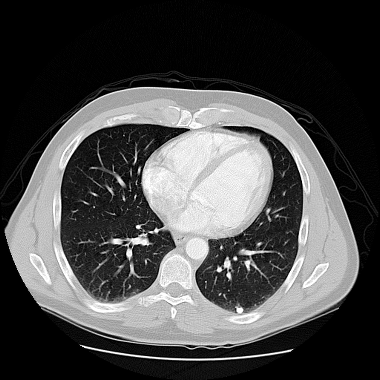nodule: (235, 306, 243, 314)
